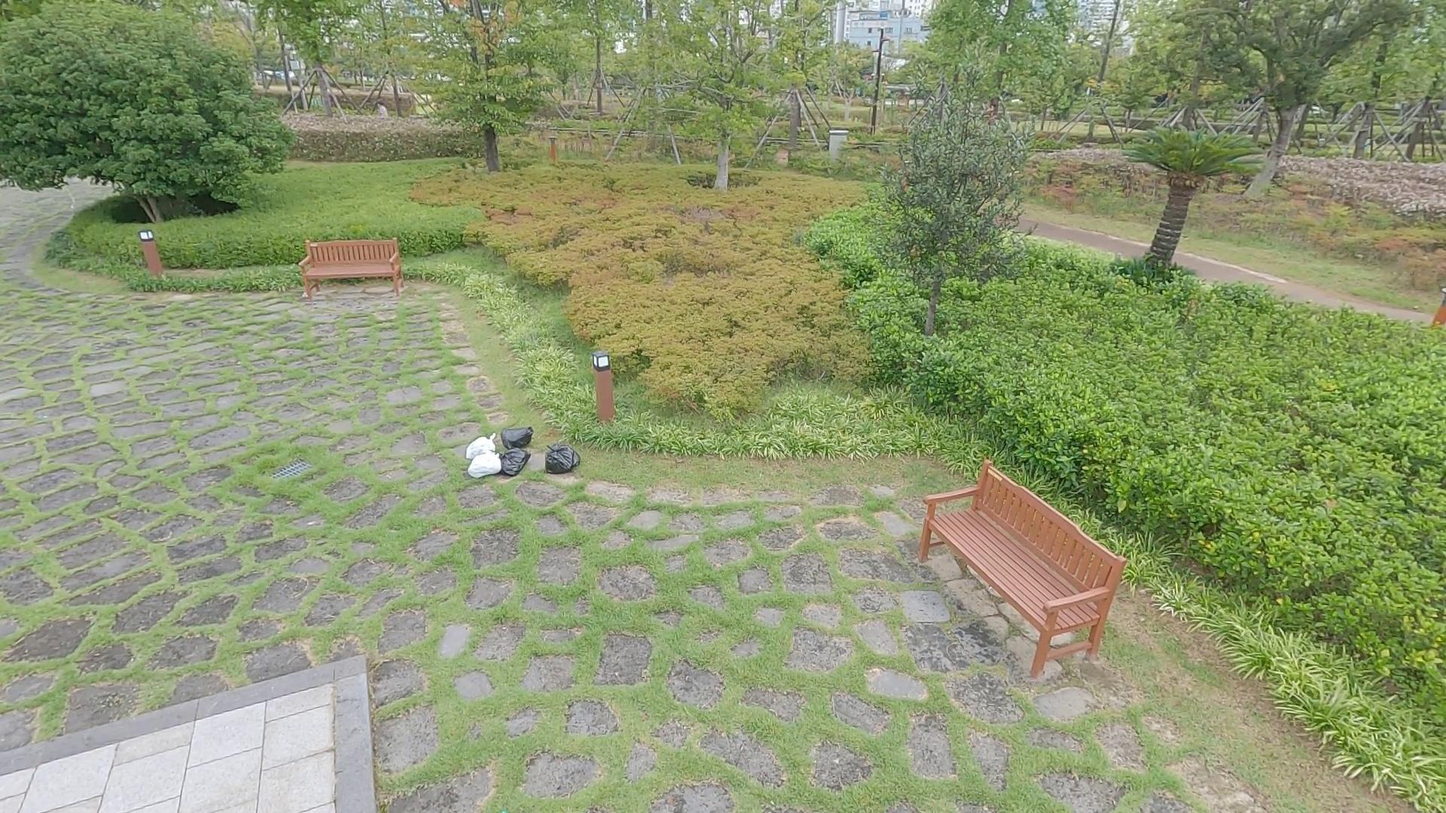trash: (542, 442, 582, 475), (498, 447, 533, 478), (466, 451, 504, 479), (462, 432, 498, 461), (499, 425, 535, 450)
